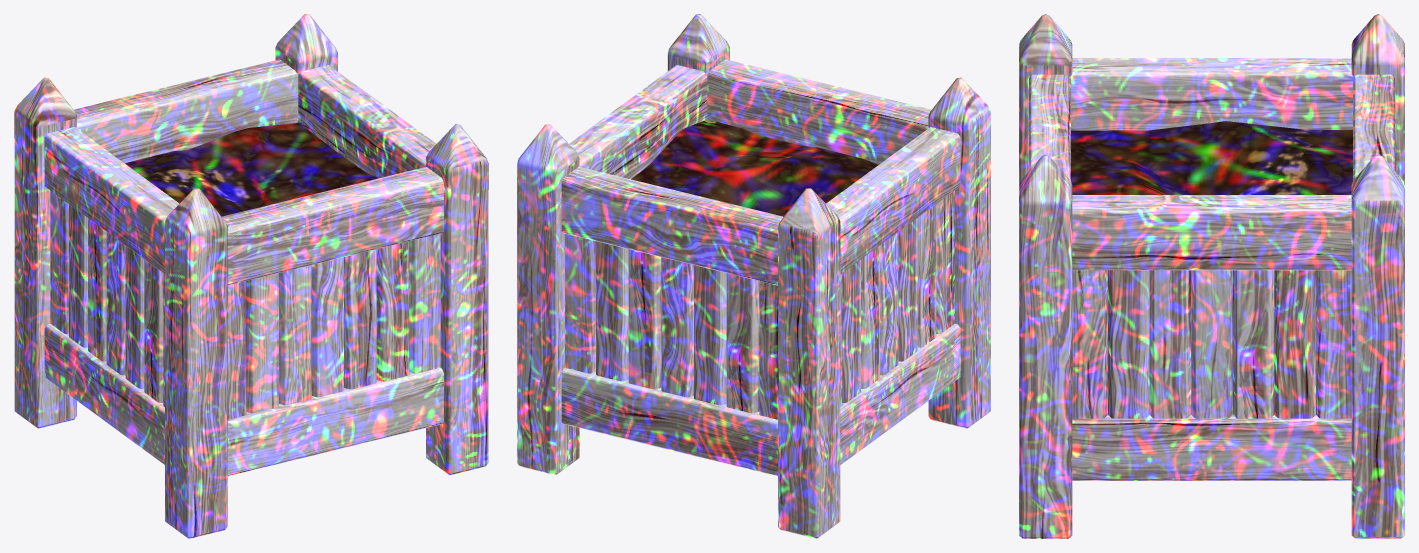
Rendered from bay_tree_SM.fbx.
3 renders of one model, left to right at view 1: azimuth 30°, elevation 25°; view 2: azimuth 150°, elevation 25°; view 3: azimuth 270°, elevation 25°, orthographic. The views are drawn at different scales.
Parts seen in each view (by area): view 1: bay_tree_SM_LOD0; view 2: bay_tree_SM_LOD0; view 3: bay_tree_SM_LOD0.
Boxes of the visible parts, box(x1,y1,x2,y2) form: bay_tree_SM_LOD0: box(14, 14, 488, 538); bay_tree_SM_LOD0: box(517, 14, 990, 538); bay_tree_SM_LOD0: box(1019, 14, 1404, 538).
Size of the model in its own units: 111 by 111 by 119.
2 materials, 2 textured.
